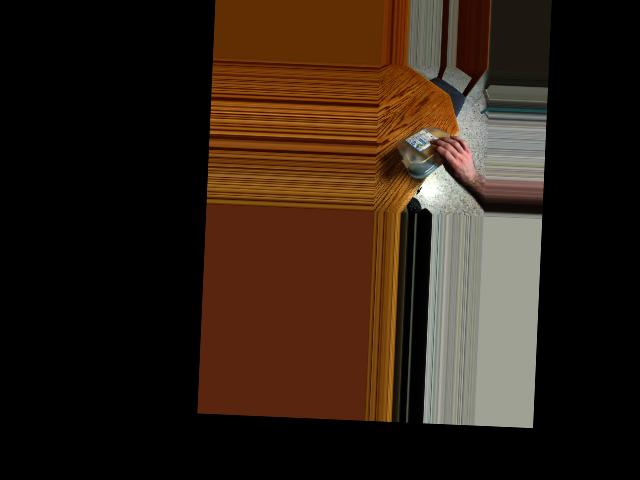cheese: (395, 123, 464, 177)
